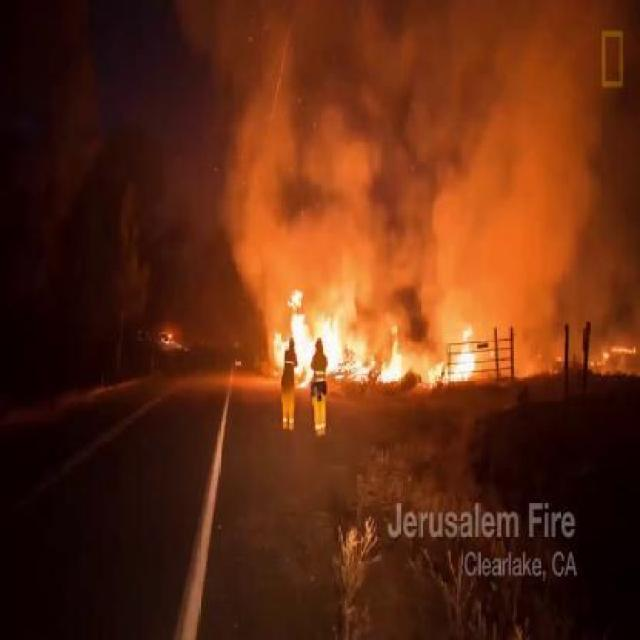Fire: (277, 294, 403, 388), (429, 327, 478, 385), (592, 343, 637, 365), (157, 328, 174, 348)
